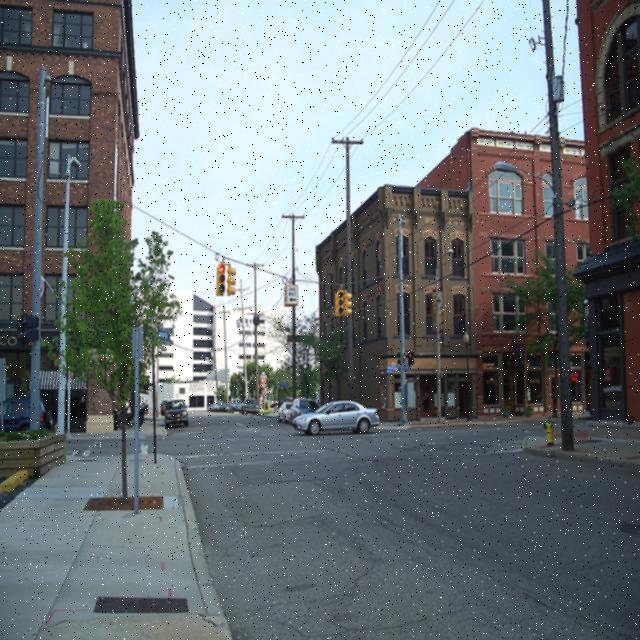fire_hydrant: (542, 414, 554, 444)
